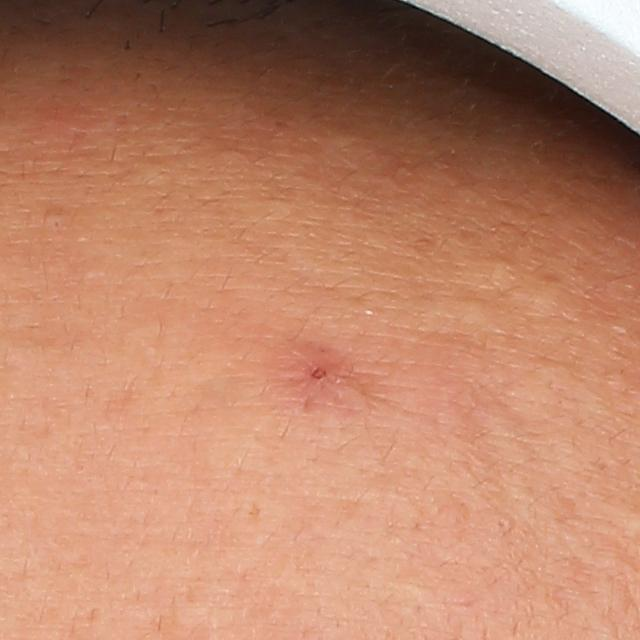comedo: (42, 210, 64, 228)
